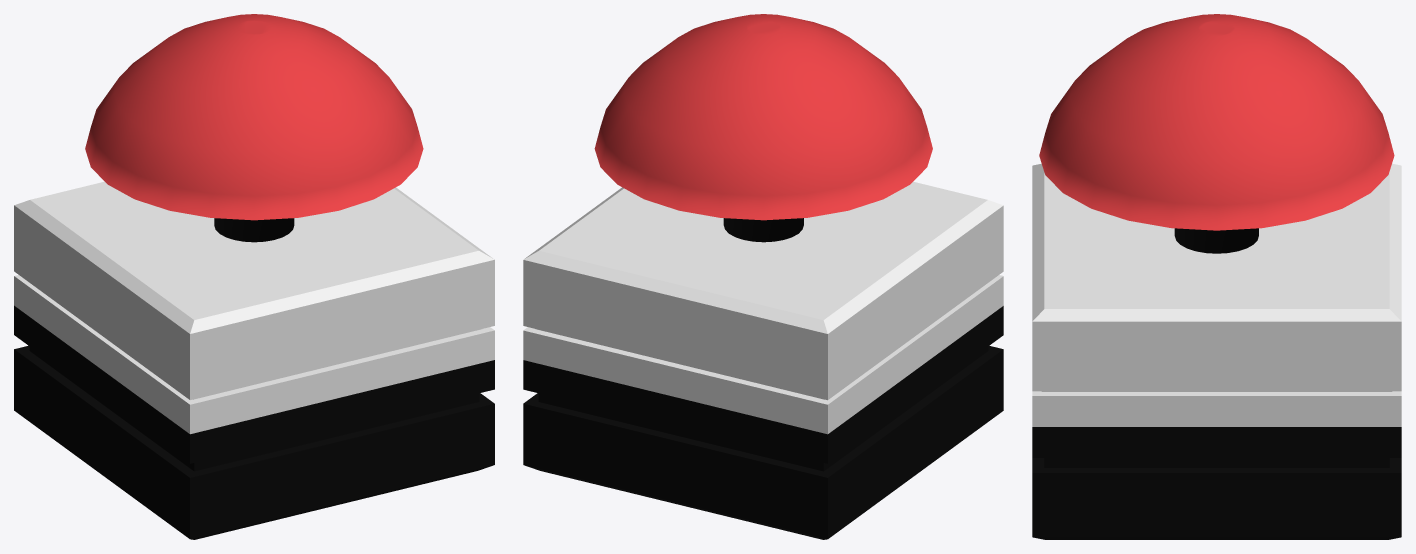
File: button.fbx
3 renders of one model, left to right at view 1: azimuth 30°, elevation 25°; view 2: azimuth 150°, elevation 25°; view 3: azimuth 270°, elevation 25°, orthographic. The views are drawn at different scales.
Visible parts, largest first — view 1: Cube; view 2: Cube; view 3: Cube.
Part boxes in pixels (x1,y1,x2,y2): Cube: (14, 14, 494, 539); Cube: (523, 14, 1003, 539); Cube: (1032, 14, 1401, 539).
Size of the model in its own units: 164 by 215 by 164.
